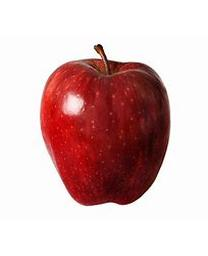apple: (38, 44, 170, 206)
